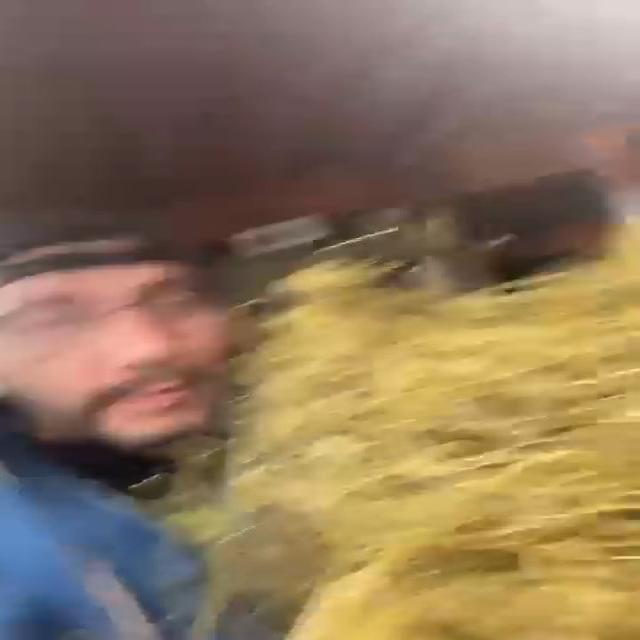spaghetti: (171, 228, 638, 640)
